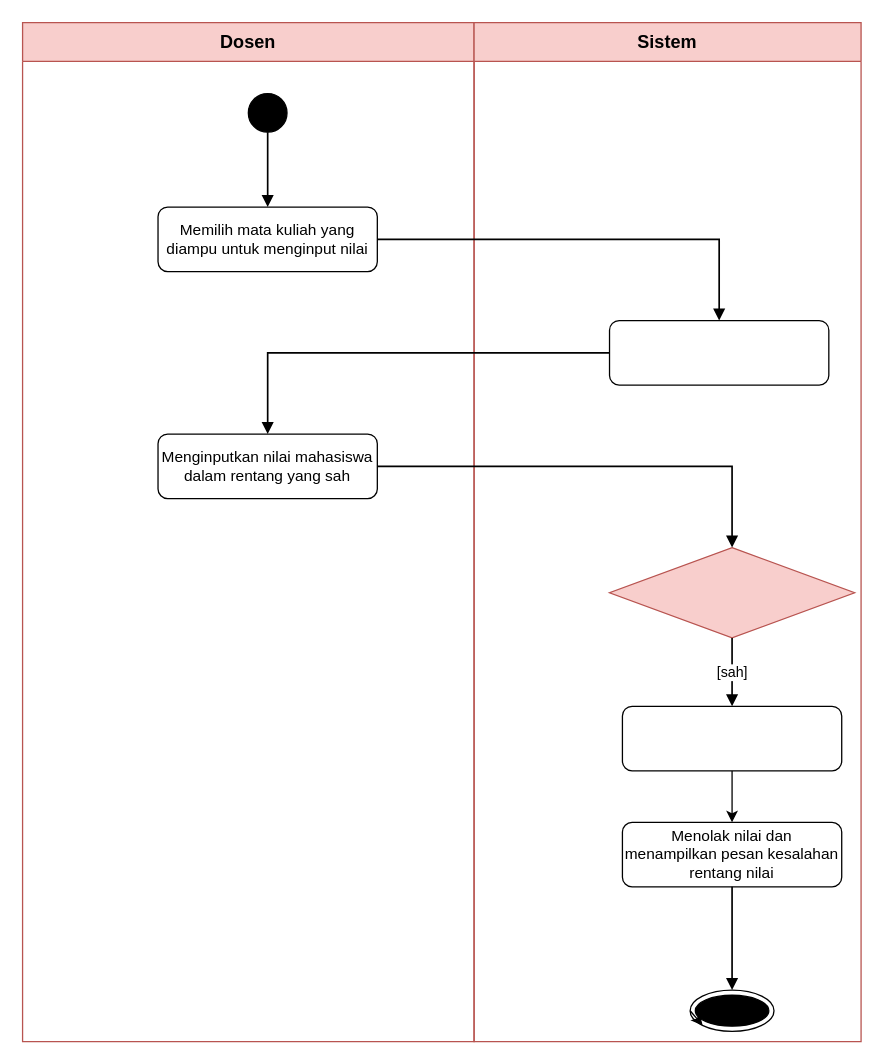
The diagram is 884 pixels wide and 1064 high, and some of its shapes have lost their labels. Here are the shapes that lost their labels. From the top down, the centre of each, then its label:
At (718,352): "Menampilkan daftar mahasiswa peserta mata kuliah".
At (731,592): "Nilai dalam rentang yang sah?".
At (731,738): "Menyimpan nilai mata kuliah".
